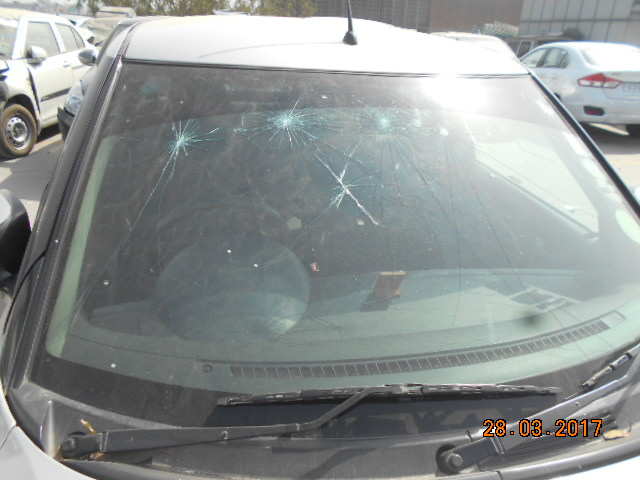Shatter: (312, 165, 377, 228), (253, 96, 322, 153), (357, 97, 427, 147), (436, 119, 477, 161), (163, 118, 200, 163)
